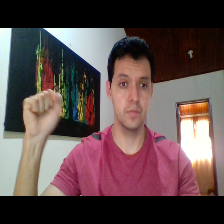9D: (15, 86, 65, 142)
